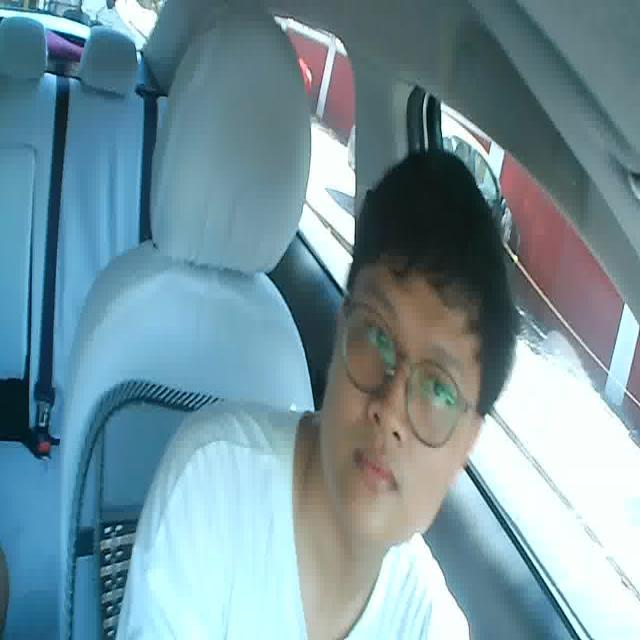Eye-Open: (361, 318, 400, 361), (416, 369, 454, 412)
Inattentive: (323, 168, 535, 558)
Normal: (350, 444, 401, 502)
